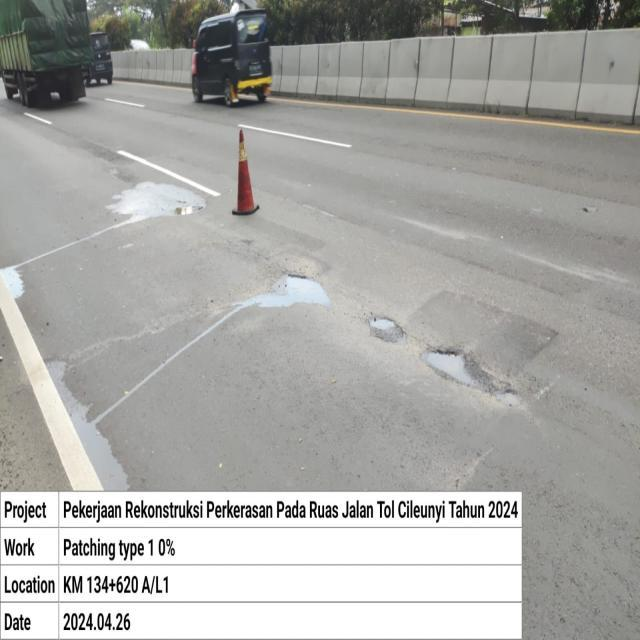Buraco: (416, 344, 522, 397), (230, 270, 336, 314), (363, 311, 410, 347), (172, 199, 208, 217)
